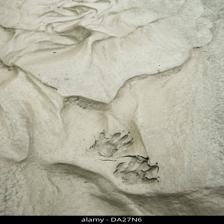raccoon: (82, 127, 139, 161)
